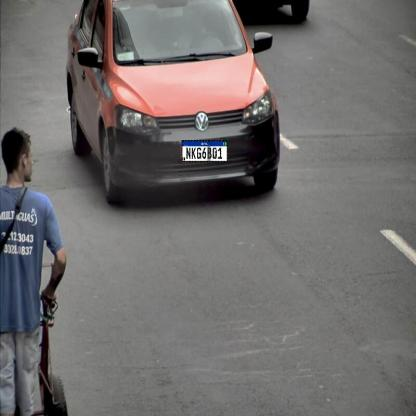PlacaM: (181, 140, 228, 162)
